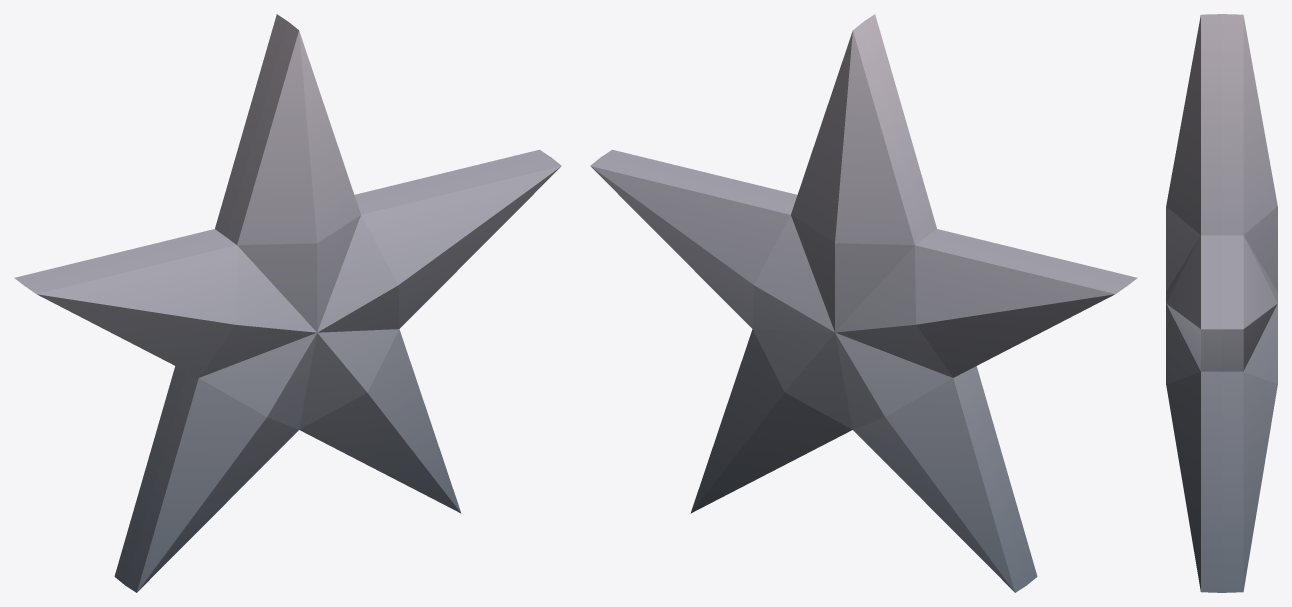
File: StarGem3.fbx
The picture shows the model from 3 angles, left to right: view 1: azimuth 30°, elevation 25°; view 2: azimuth 150°, elevation 25°; view 3: azimuth 270°, elevation 25°; orthographic projection. The views are drawn at different scales.
Parts seen in each view (by area): view 1: StarGem3; view 2: StarGem3; view 3: StarGem3.
Boxes of the visible parts, left/top/right/bottom form: StarGem3: left=14, top=14, right=561, bottom=592; StarGem3: left=590, top=14, right=1137, bottom=592; StarGem3: left=1166, top=14, right=1277, bottom=592.
Bounding box in the file's own units: 279 × 265 × 53.35.
